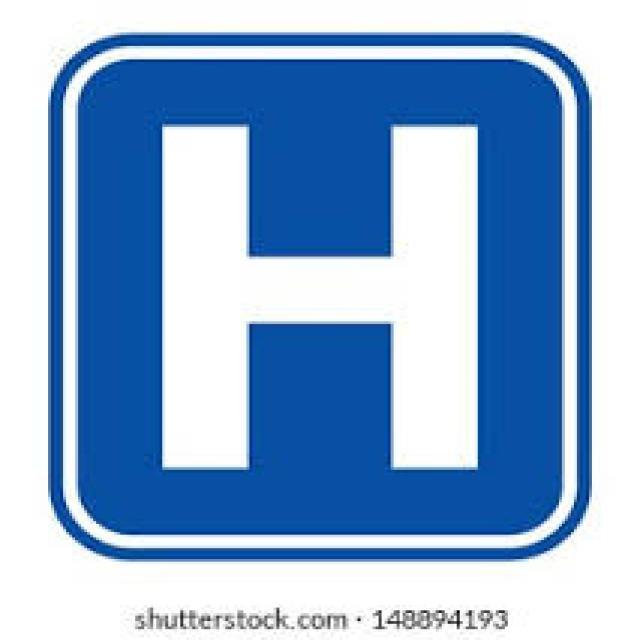hospital ahead: (49, 29, 590, 563)
